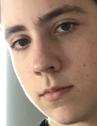without_mask: (1, 1, 97, 126)
